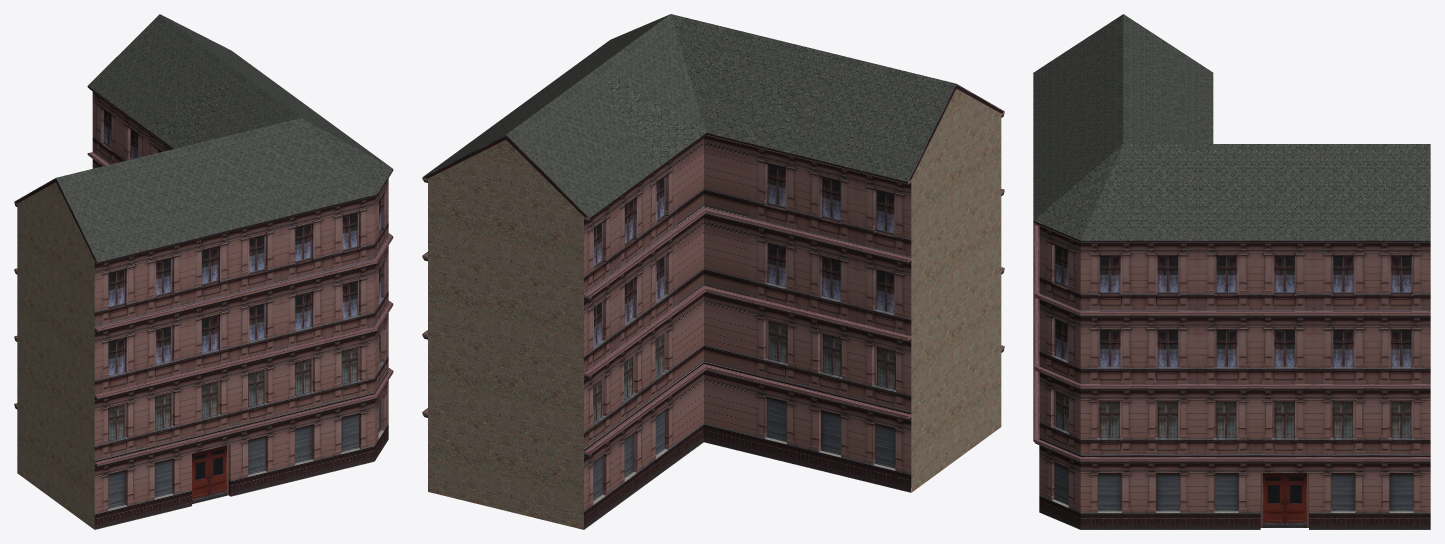
File: PBP1_Corner2_2sided_2.fbx
The picture shows the model from 3 angles, left to right: view 1: azimuth 30°, elevation 25°; view 2: azimuth 150°, elevation 25°; view 3: azimuth 270°, elevation 25°; orthographic projection. The views are drawn at different scales.
Parts seen in each view (by area): view 1: PBP1_Corner2_2sided_2; view 2: PBP1_Corner2_2sided_2; view 3: PBP1_Corner2_2sided_2.
Part boxes in pixels (left/top/right/bottom): PBP1_Corner2_2sided_2: left=14, top=14, right=393, bottom=529; PBP1_Corner2_2sided_2: left=422, top=14, right=1004, bottom=529; PBP1_Corner2_2sided_2: left=1033, top=14, right=1430, bottom=529.
Bounding box in the file's own units: 1653 × 1653 × 1609.
